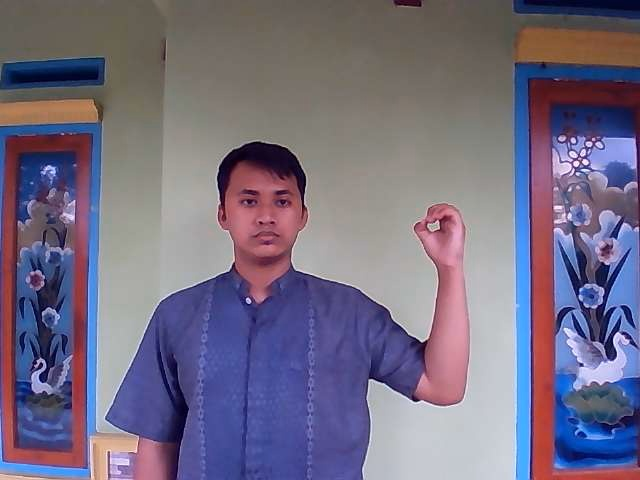O: (411, 200, 467, 265)
